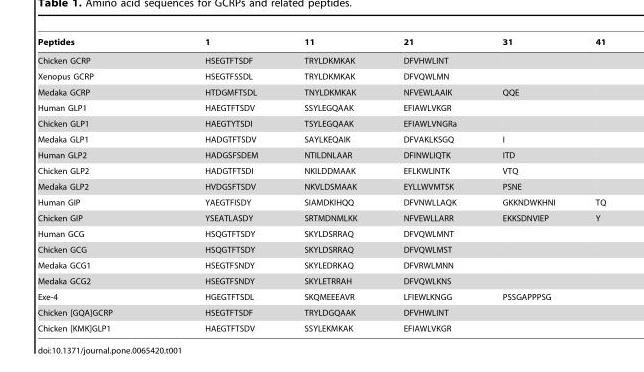table: (37, 37, 605, 332)
table column: (158, 37, 280, 332), (37, 37, 158, 332), (280, 37, 379, 332), (379, 37, 478, 332), (478, 37, 574, 332), (574, 37, 605, 332)
table column header: (37, 37, 605, 51)
table row: (37, 51, 605, 68), (37, 68, 605, 84), (37, 99, 605, 115), (37, 115, 605, 131), (37, 131, 605, 147), (37, 162, 605, 178), (37, 178, 605, 194), (37, 194, 605, 210), (37, 225, 605, 241), (37, 241, 605, 257), (37, 257, 605, 273), (37, 288, 605, 304), (37, 304, 605, 320), (37, 84, 605, 99), (37, 147, 605, 162), (37, 210, 605, 225), (37, 273, 605, 288), (37, 37, 605, 51), (37, 320, 605, 332)
